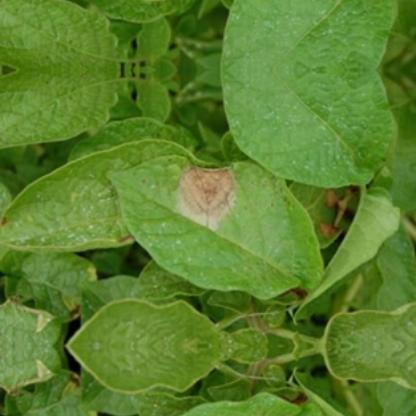Late-Blight: (102, 126, 338, 301)
